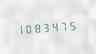eight: (35, 20, 43, 34)
five: (71, 18, 79, 31)
four: (53, 19, 61, 33)
one: (17, 22, 25, 35)
seven: (62, 18, 70, 32)
three: (44, 20, 52, 33)
zero: (26, 21, 34, 34)
